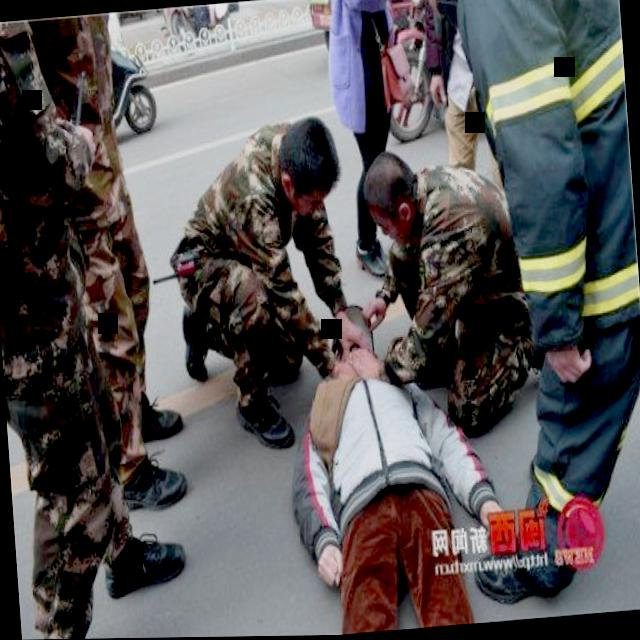Fall-Detected: (266, 284, 516, 624)
